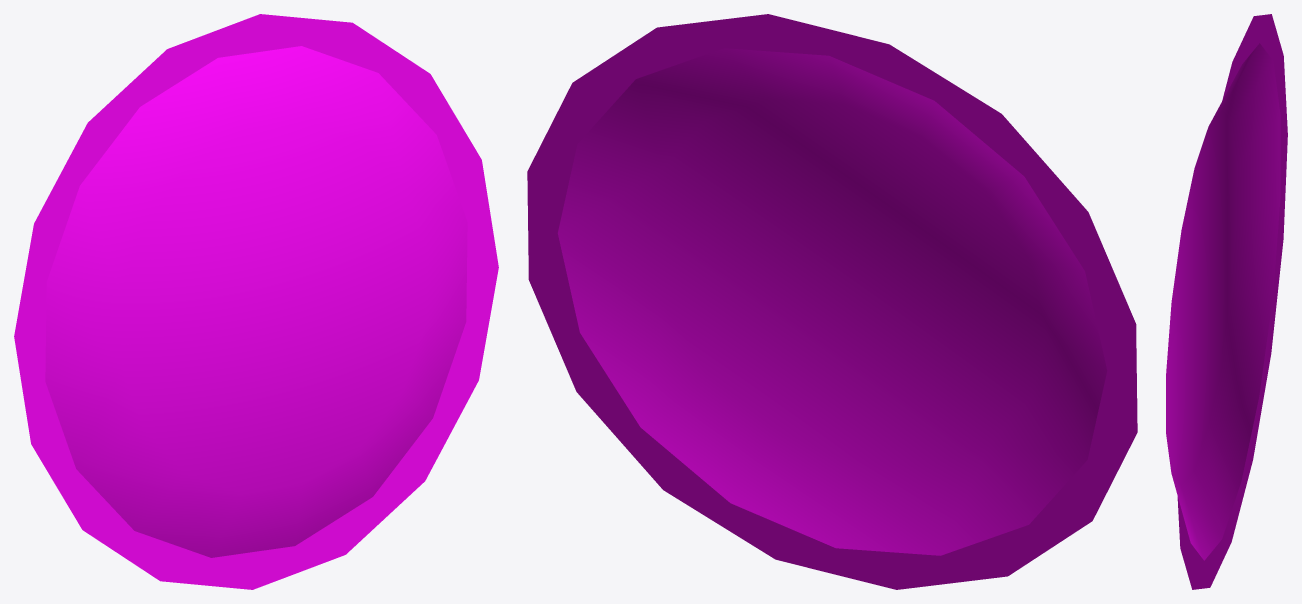
Rendered from pelte_01_back.glb.
3 views of the same model, side by side, from view 1: azimuth 30°, elevation 25°; view 2: azimuth 150°, elevation 25°; view 3: azimuth 270°, elevation 25° (orthographic). The views are drawn at different scales.
Parts seen in each view (by area): view 1: Cubo_012-mesh; view 2: Cubo_012-mesh; view 3: Cubo_012-mesh.
Boxes of the visible parts, x1=… form: Cubo_012-mesh: x1=14, y1=14, x2=498, y2=589; Cubo_012-mesh: x1=527, y1=14, x2=1137, y2=589; Cubo_012-mesh: x1=1166, y1=14, x2=1287, y2=589.
Bounding box in the file's own units: 1.4 × 1.39 × 0.2934.
